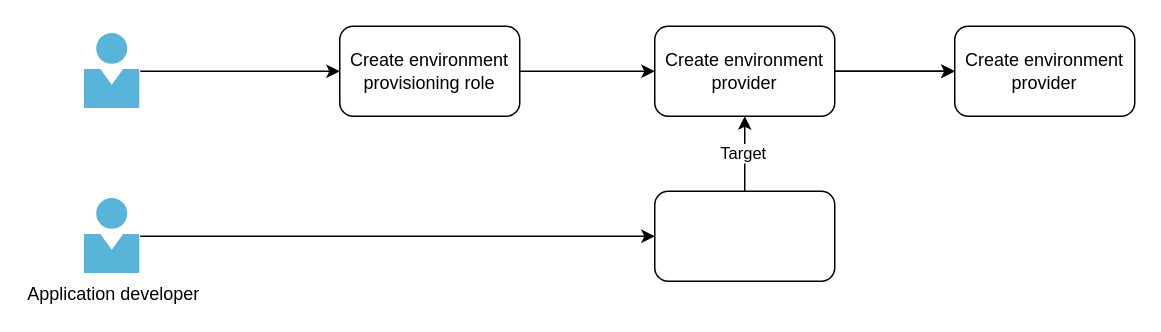
This 1161x332 diagram has some shape labels left out. The shapes that lost their labels are listed below. From the top down, each one's centre as x and y in pixels, then its label:
(112,70): Platform engineer
(744,235): Create application
